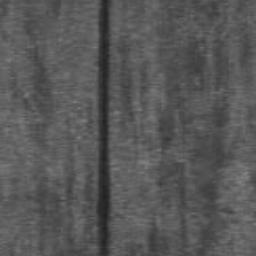Scratches: (97, 0, 110, 256)
